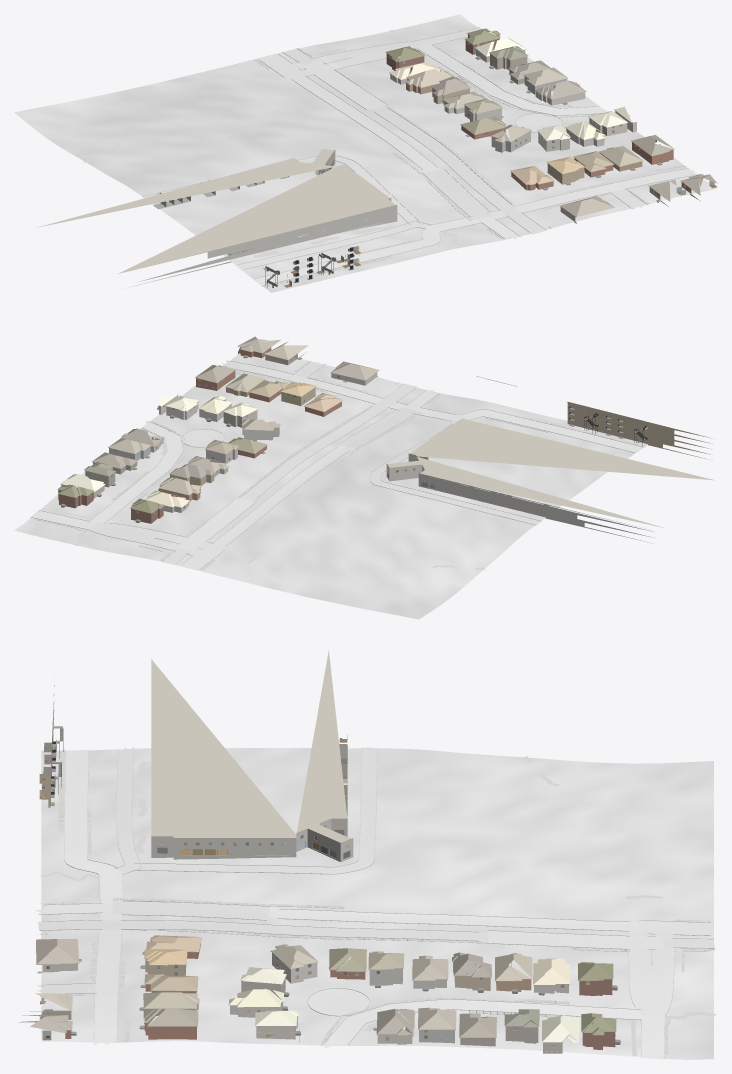
The picture shows the model from 3 angles, top to bottom: view 1: azimuth 30°, elevation 25°; view 2: azimuth 150°, elevation 25°; view 3: azimuth 270°, elevation 25°; orthographic projection. The views are drawn at different scales.
Parts seen in each view (by area): view 1: ground, roof, roof_flat, concrete, asphalt, curb, wall_com, walk, wall, detail, wall_stucco, wall_stone (+2 smaller); view 2: ground, roof, roof_flat, concrete, asphalt, wall, curb, wall_com, walk, detail, wall_stucco, wall_stone; view 3: ground, concrete, roof, roof_flat, asphalt, curb, walk, wall, wall_com, detail, wall_stucco, wall_stone (+3 smaller).
Boxes of the visible parts, <box> form: ground: <box>14,14,716,292</box>; roof: <box>386,28,717,217</box>; roof_flat: <box>37,149,395,273</box>; concrete: <box>142,27,699,285</box>; asphalt: <box>259,48,545,239</box>; curb: <box>142,27,699,287</box>; wall_com: <box>131,149,397,286</box>; walk: <box>83,28,684,287</box>; wall: <box>386,34,699,206</box>; detail: <box>154,33,690,287</box>; wall_stucco: <box>476,49,636,223</box>; wall_stone: <box>390,74,604,152</box>; ground: <box>14,353,647,619</box>; roof: <box>58,336,378,513</box>; roof_flat: <box>387,418,714,528</box>; concrete: <box>31,360,642,555</box>; asphalt: <box>162,383,437,569</box>; wall: <box>58,347,712,523</box>; curb: <box>30,360,642,569</box>; wall_com: <box>386,453,653,543</box>; walk: <box>36,361,645,570</box>; detail: <box>57,344,662,522</box>; wall_stucco: <box>61,372,378,498</box>; wall_stone: <box>163,399,279,512</box>; ground: <box>41,748,713,1059</box>; concrete: <box>37,747,675,1059</box>; roof: <box>14,935,616,1042</box>; roof_flat: <box>151,650,350,842</box>; asphalt: <box>35,901,714,949</box>; curb: <box>37,747,714,1058</box>; walk: <box>39,749,716,1055</box>; wall: <box>19,677,615,1049</box>; wall_com: <box>151,818,353,862</box>; detail: <box>29,726,620,1047</box>; wall_stucco: <box>37,964,562,1053</box>; wall_stone: <box>230,948,568,1017</box>.
Size of the model in its own units: 324 by 23.34 by 262.
